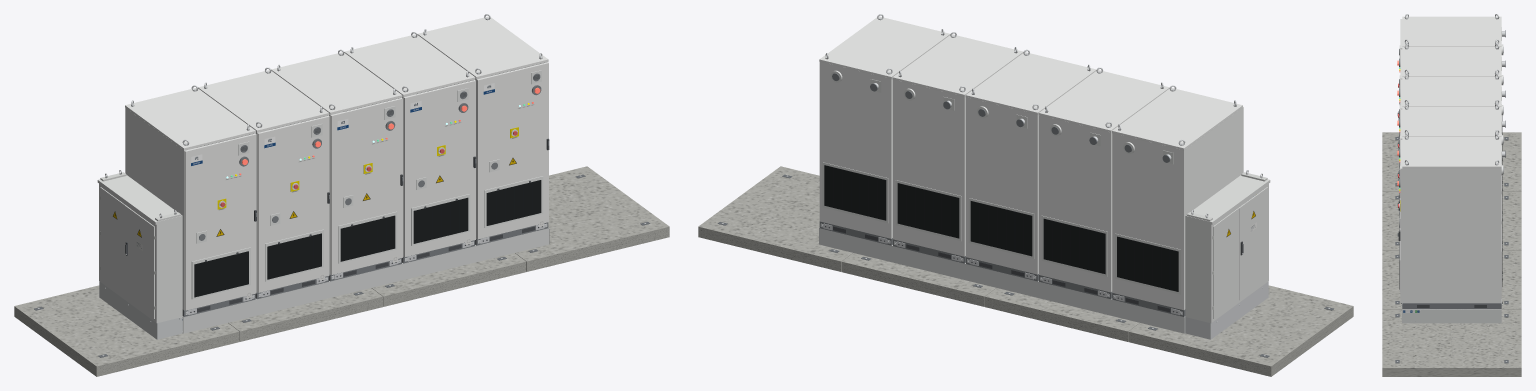
The model's file is aio5.glb.
The picture shows the model from 3 angles, left to right: view 1: azimuth 30°, elevation 25°; view 2: azimuth 150°, elevation 25°; view 3: azimuth 270°, elevation 25°; orthographic projection. The views are drawn at different scales.
Bounding box in the file's own units: 79.94 × 26.84 × 19.94.
202 materials, 113 textured.
